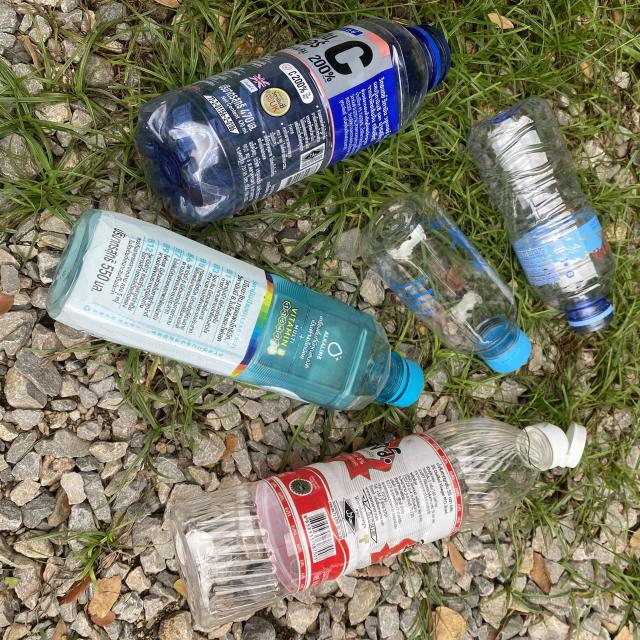plastik: (171, 419, 585, 630), (46, 210, 424, 410), (134, 19, 450, 222), (468, 96, 615, 334), (360, 192, 531, 372)
